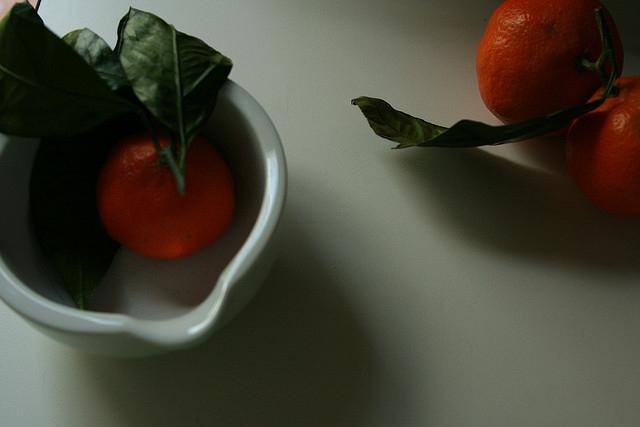orange: (97, 140, 235, 260), (477, 3, 601, 124), (569, 76, 640, 222)
